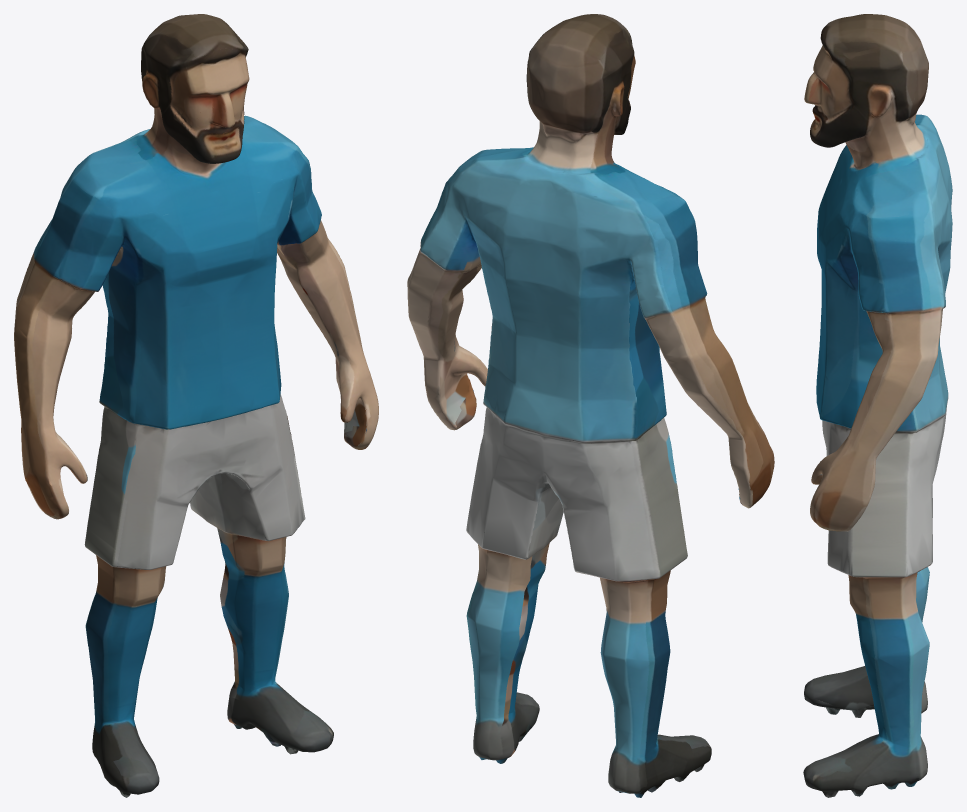
Rendered from Defender_fbx.fbx.
3 renders of one model, left to right at view 1: azimuth 30°, elevation 25°; view 2: azimuth 150°, elevation 25°; view 3: azimuth 270°, elevation 25°, orthographic.
Visible parts, largest first — view 1: Soccer Player; view 2: Soccer Player; view 3: Soccer Player.
Part boxes in pixels (x1,y1,x2,y2): Soccer Player: (14,14,378,797); Soccer Player: (407,14,774,797); Soccer Player: (803,14,952,797).
Size of the model in its own units: 47.34 by 100 by 18.53.
